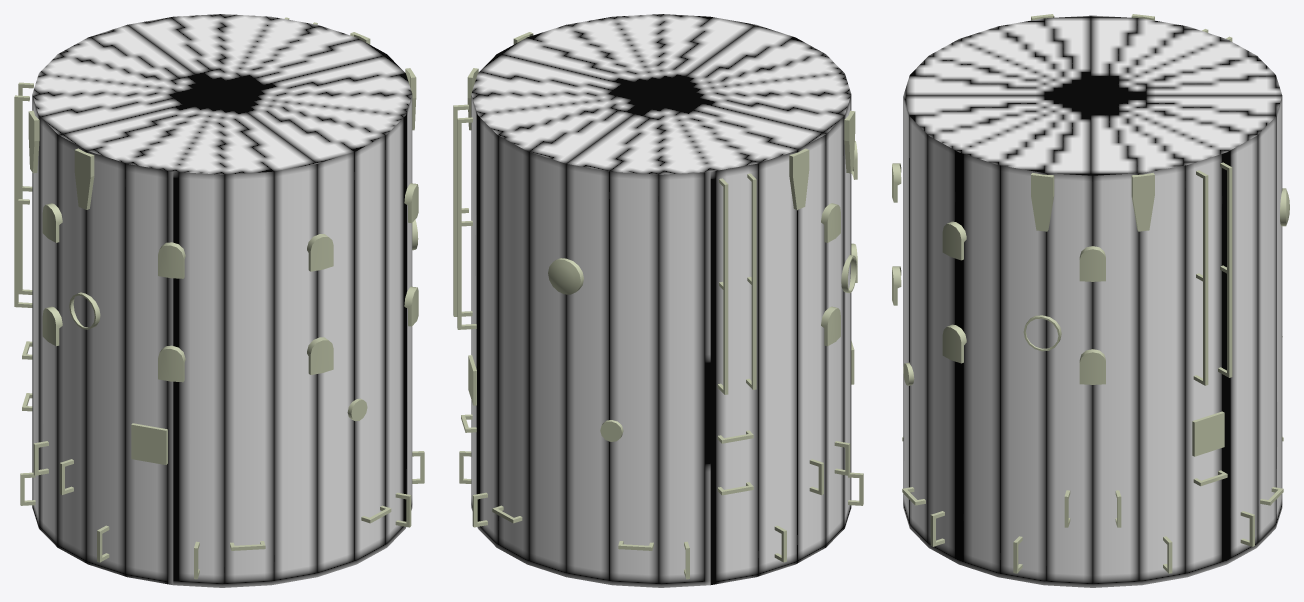
The model's file is eridani_crew_s2_1_interior.obj.
3 renders of one model, left to right at view 1: azimuth 30°, elevation 25°; view 2: azimuth 150°, elevation 25°; view 3: azimuth 270°, elevation 25°, orthographic.
Visible parts, largest first — view 1: internal1, mask1; view 2: internal1, mask1; view 3: internal1, mask1.
Part boxes in pixels (left/top/right/bottom): internal1: left=32, top=14, right=412, bottom=587; mask1: left=14, top=17, right=424, bottom=579; internal1: left=471, top=14, right=851, bottom=587; mask1: left=453, top=32, right=863, bottom=579; internal1: left=903, top=15, right=1282, bottom=587; mask1: left=892, top=14, right=1289, bottom=573.
Size of the model in its own units: 2.66 by 3 by 2.62.
2 materials, 1 textured.
